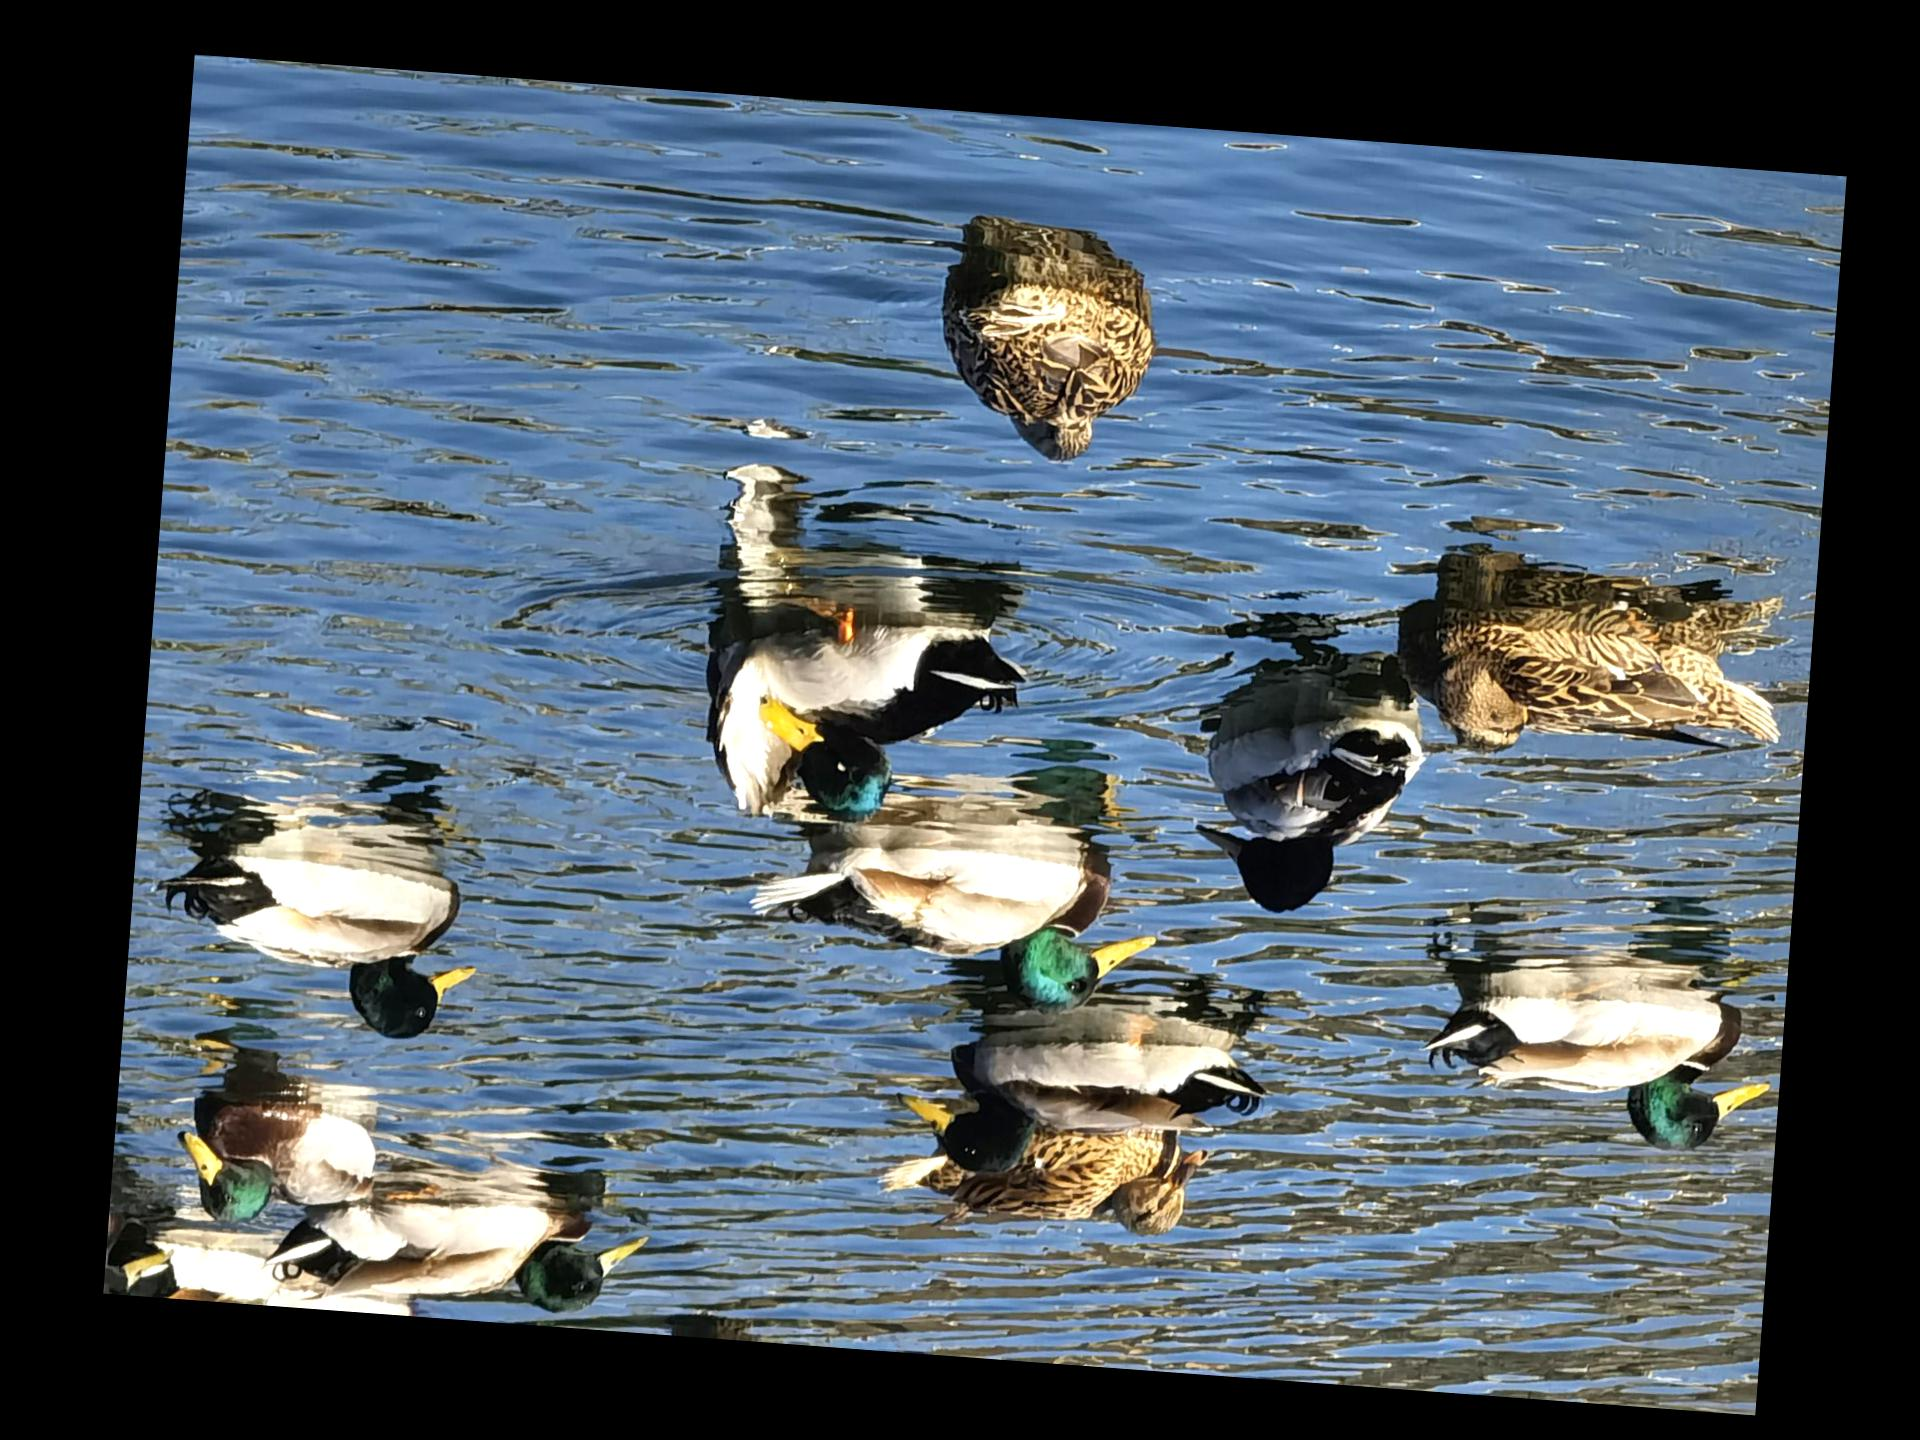duck: (736, 806, 1172, 1026), (1388, 567, 1814, 790), (686, 591, 1036, 843), (139, 817, 493, 1063), (1407, 942, 1787, 1171), (880, 992, 1284, 1193), (1164, 691, 1439, 948), (265, 1159, 656, 1330), (921, 236, 1175, 475), (871, 1110, 1243, 1262), (169, 1082, 392, 1249)
